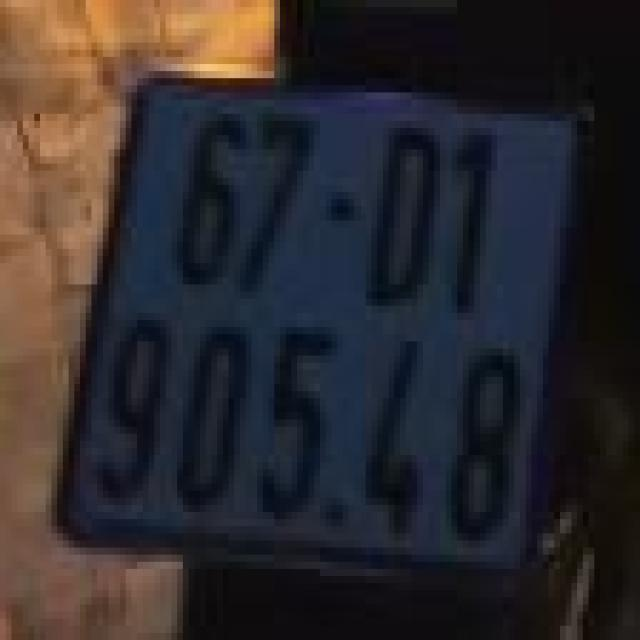0: (166, 310, 271, 516)
1: (437, 117, 523, 328)
4: (350, 328, 465, 543)
5: (249, 319, 355, 527)
6: (167, 102, 267, 301)
7: (226, 97, 337, 308)
8: (443, 339, 542, 556)
9: (87, 305, 191, 501)
D: (352, 109, 459, 314)
